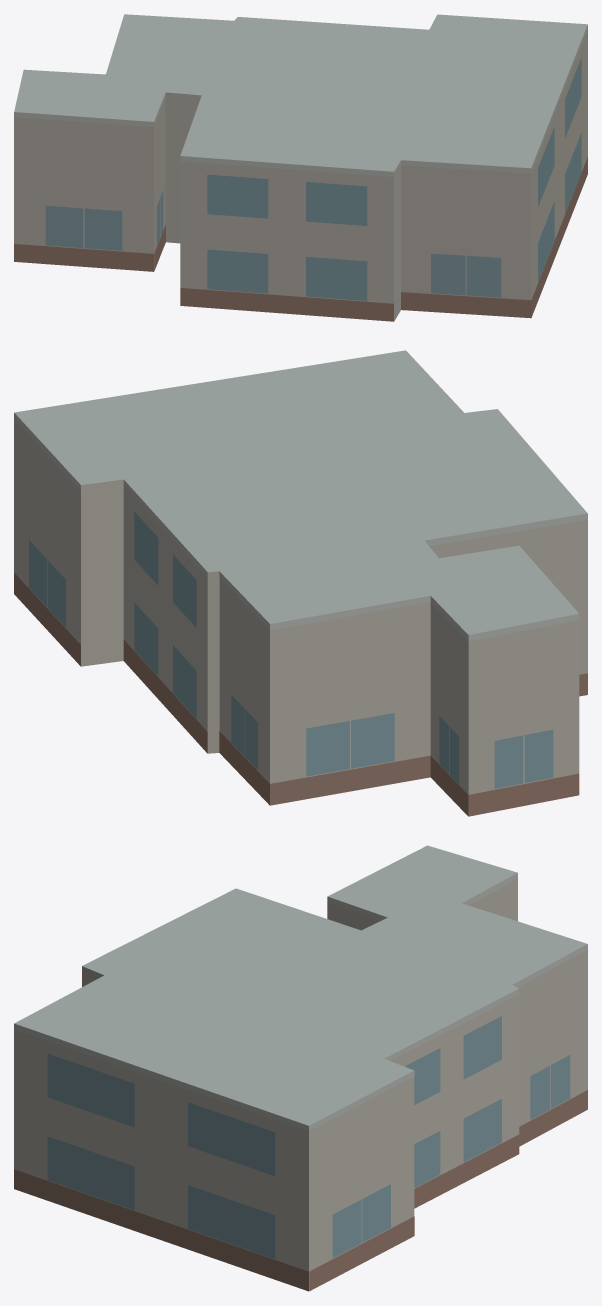
File: survey-upis-32470285.glb
3 renders of one model, top to bottom at view 1: azimuth 30°, elevation 25°; view 2: azimuth 150°, elevation 25°; view 3: azimuth 270°, elevation 25°, orthographic. The views are drawn at different scales.
Parts seen in each view (by area): view 1: survey-upis-32470285.tmp; view 2: survey-upis-32470285.tmp; view 3: survey-upis-32470285.tmp.
Part boxes in pixels (<box>): survey-upis-32470285.tmp: <box>14,14,587,321</box>; survey-upis-32470285.tmp: <box>14,350,587,816</box>; survey-upis-32470285.tmp: <box>14,845,587,1291</box>.
Bounding box in the file's own units: 25.44 × 7 × 21.99.
